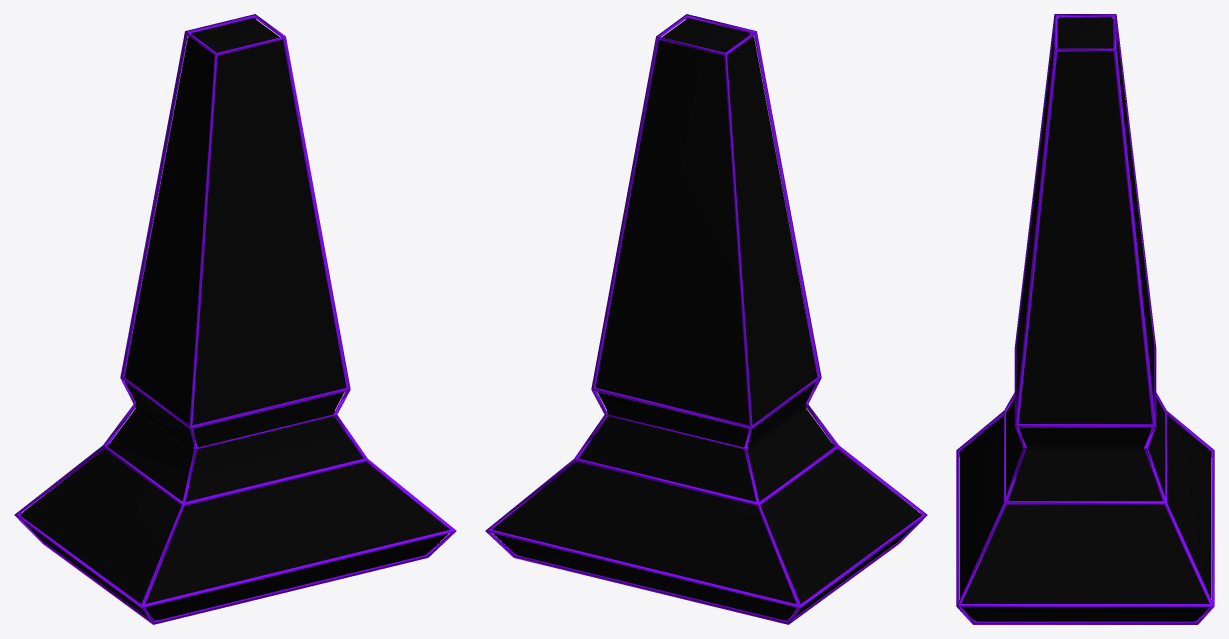
File: Tower.fbx
The picture shows the model from 3 angles, left to right: view 1: azimuth 30°, elevation 25°; view 2: azimuth 150°, elevation 25°; view 3: azimuth 270°, elevation 25°; orthographic projection.
Visible parts, largest first — view 1: Tower.Shape; view 2: Tower.Shape; view 3: Tower.Shape.
Part boxes in pixels (x1=…): Tower.Shape: x1=14, y1=14, x2=456, y2=624; Tower.Shape: x1=485, y1=14, x2=927, y2=624; Tower.Shape: x1=956, y1=14, x2=1214, y2=624.
Bounding box in the file's own units: 85.79 × 147 × 59.77.
